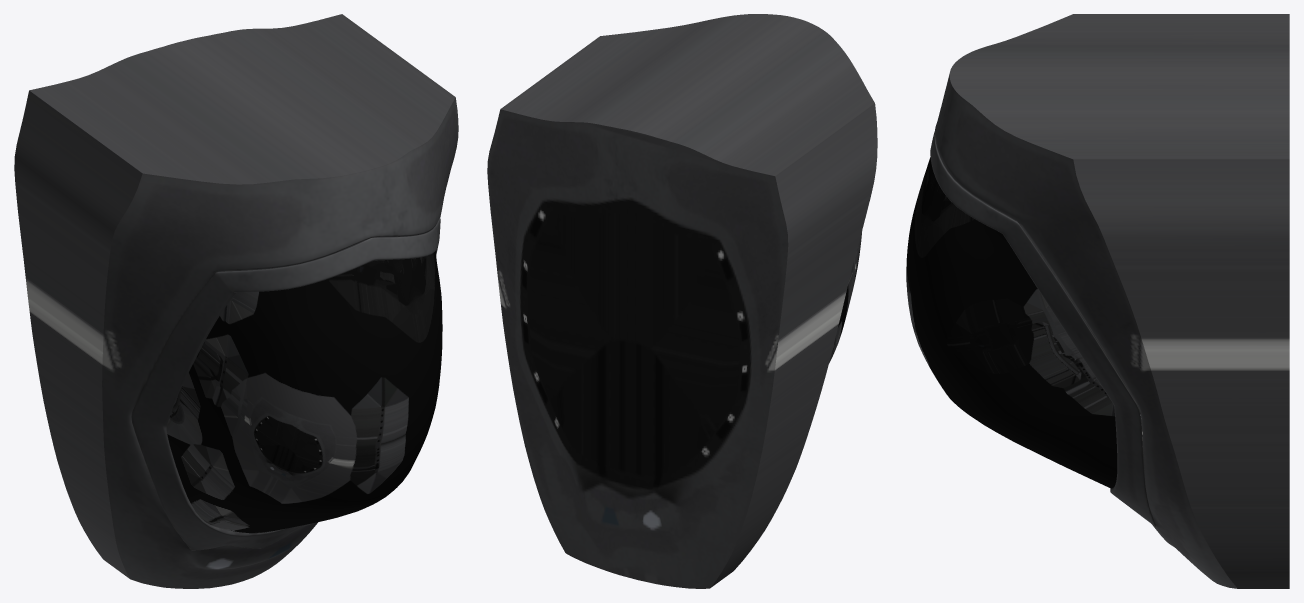
The model's file is f35-cockpit.glb.
3 views of the same model, side by side, from view 1: azimuth 30°, elevation 25°; view 2: azimuth 150°, elevation 25°; view 3: azimuth 270°, elevation 25° (orthographic). The views are drawn at different scales.
Visible parts, largest first — view 1: Object052_fondo_0, vetro cabina_Material.008_0, corpo_F35_0, Object001_F35_0; view 2: Object052_fondo_0, vetro cabina_Material.008_0; view 3: Object052_fondo_0, vetro cabina_Material.008_0, corpo_F35_0, Object001_F35_0.
Boxes of the visible parts, bbox=[...] form: Object052_fondo_0: bbox=[14, 14, 455, 578]; vetro cabina_Material.008_0: bbox=[166, 251, 442, 533]; corpo_F35_0: bbox=[102, 97, 458, 588]; Object001_F35_0: bbox=[131, 218, 440, 550]; Object052_fondo_0: bbox=[487, 14, 877, 588]; vetro cabina_Material.008_0: bbox=[829, 232, 861, 363]; Object052_fondo_0: bbox=[949, 14, 1289, 588]; vetro cabina_Material.008_0: bbox=[906, 157, 1117, 488]; corpo_F35_0: bbox=[934, 73, 1237, 588]; Object001_F35_0: bbox=[930, 132, 1155, 526].
Size of the model in its own units: 1.6 by 2.27 by 1.63.
2 materials, 2 textured.
